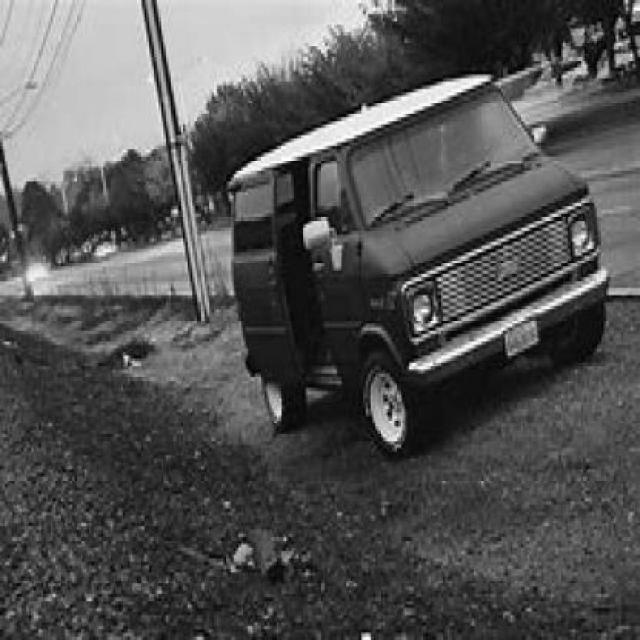Van: (229, 74, 610, 462)
